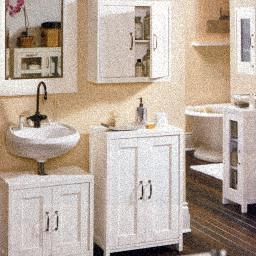Armario: (100, 131, 179, 248), (222, 111, 253, 206)
Lavamanos: (6, 79, 75, 170)
